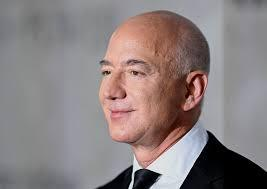person: (93, 6, 214, 144)
